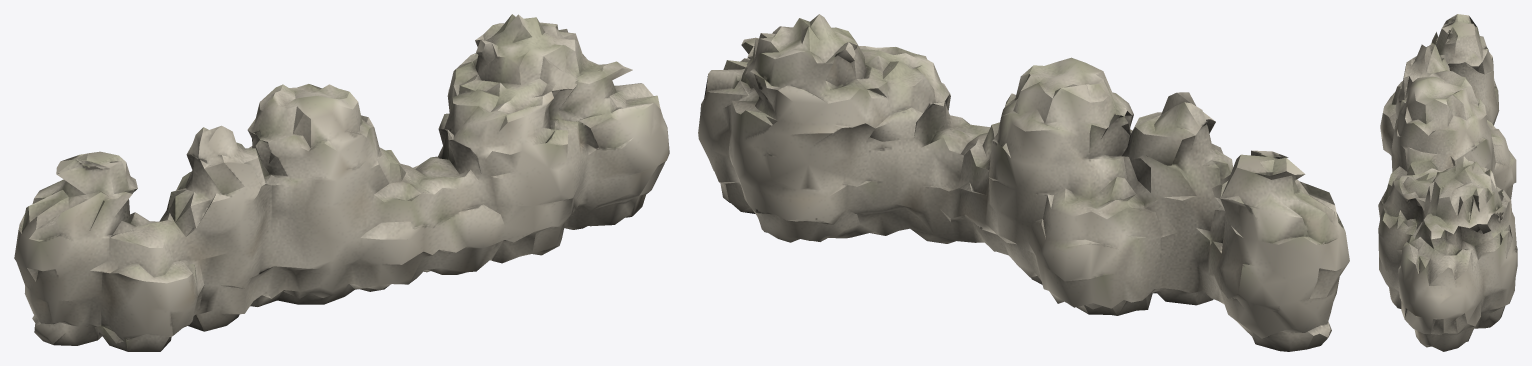
Rendered from costa_horizonte_a.glb.
3 views of the same model, side by side, from view 1: azimuth 30°, elevation 25°; view 2: azimuth 150°, elevation 25°; view 3: azimuth 270°, elevation 25° (orthographic). The views are drawn at different scales.
Visible parts, largest first — view 1: costa_horizonte_a; view 2: costa_horizonte_a; view 3: costa_horizonte_a.
Part boxes in pixels (bbox=[...]): costa_horizonte_a: bbox=[14, 14, 669, 351]; costa_horizonte_a: bbox=[698, 14, 1349, 351]; costa_horizonte_a: bbox=[1378, 14, 1517, 351].
Bounding box in the file's own units: 71.68 × 22.5 × 17.87.
1 material, 1 textured.
